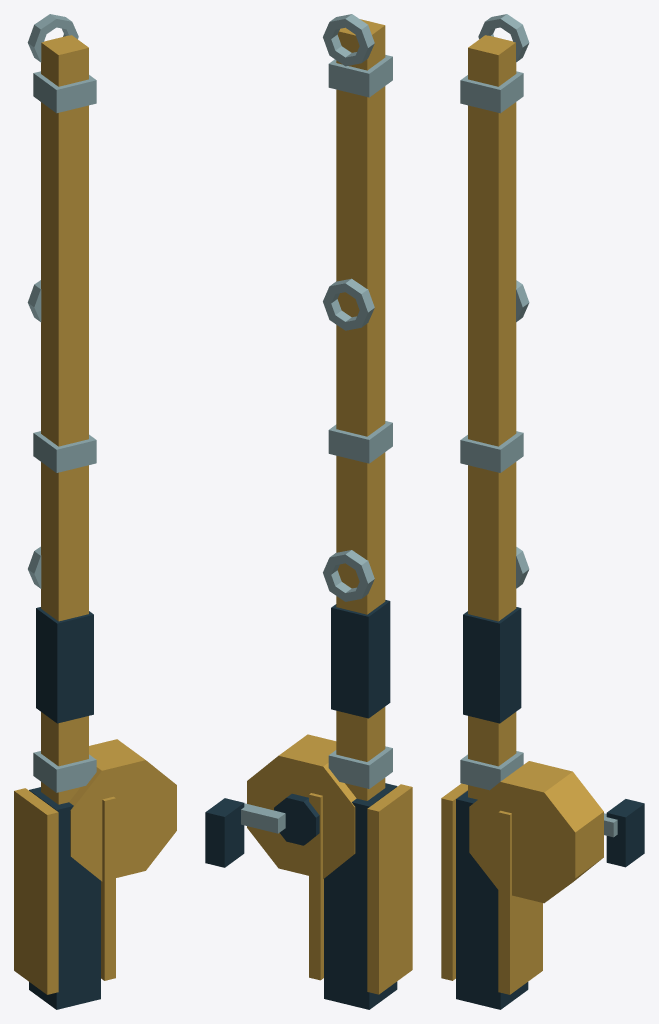
File: rod_heavy.gltf
3 views of the same model, side by side, from view 1: azimuth 30°, elevation 25°; view 2: azimuth 150°, elevation 25°; view 3: azimuth 330°, elevation 25° (orthographic).
Parts seen in each view (by area): view 1: rod_heavy; view 2: rod_heavy; view 3: rod_heavy.
Part boxes in pixels (<box>): rod_heavy: <box>14,14,176,1009</box>; rod_heavy: <box>205,14,412,1009</box>; rod_heavy: <box>441,14,644,1009</box>.
Bounding box in the file's own units: 0.224 × 1.46 × 0.166.
